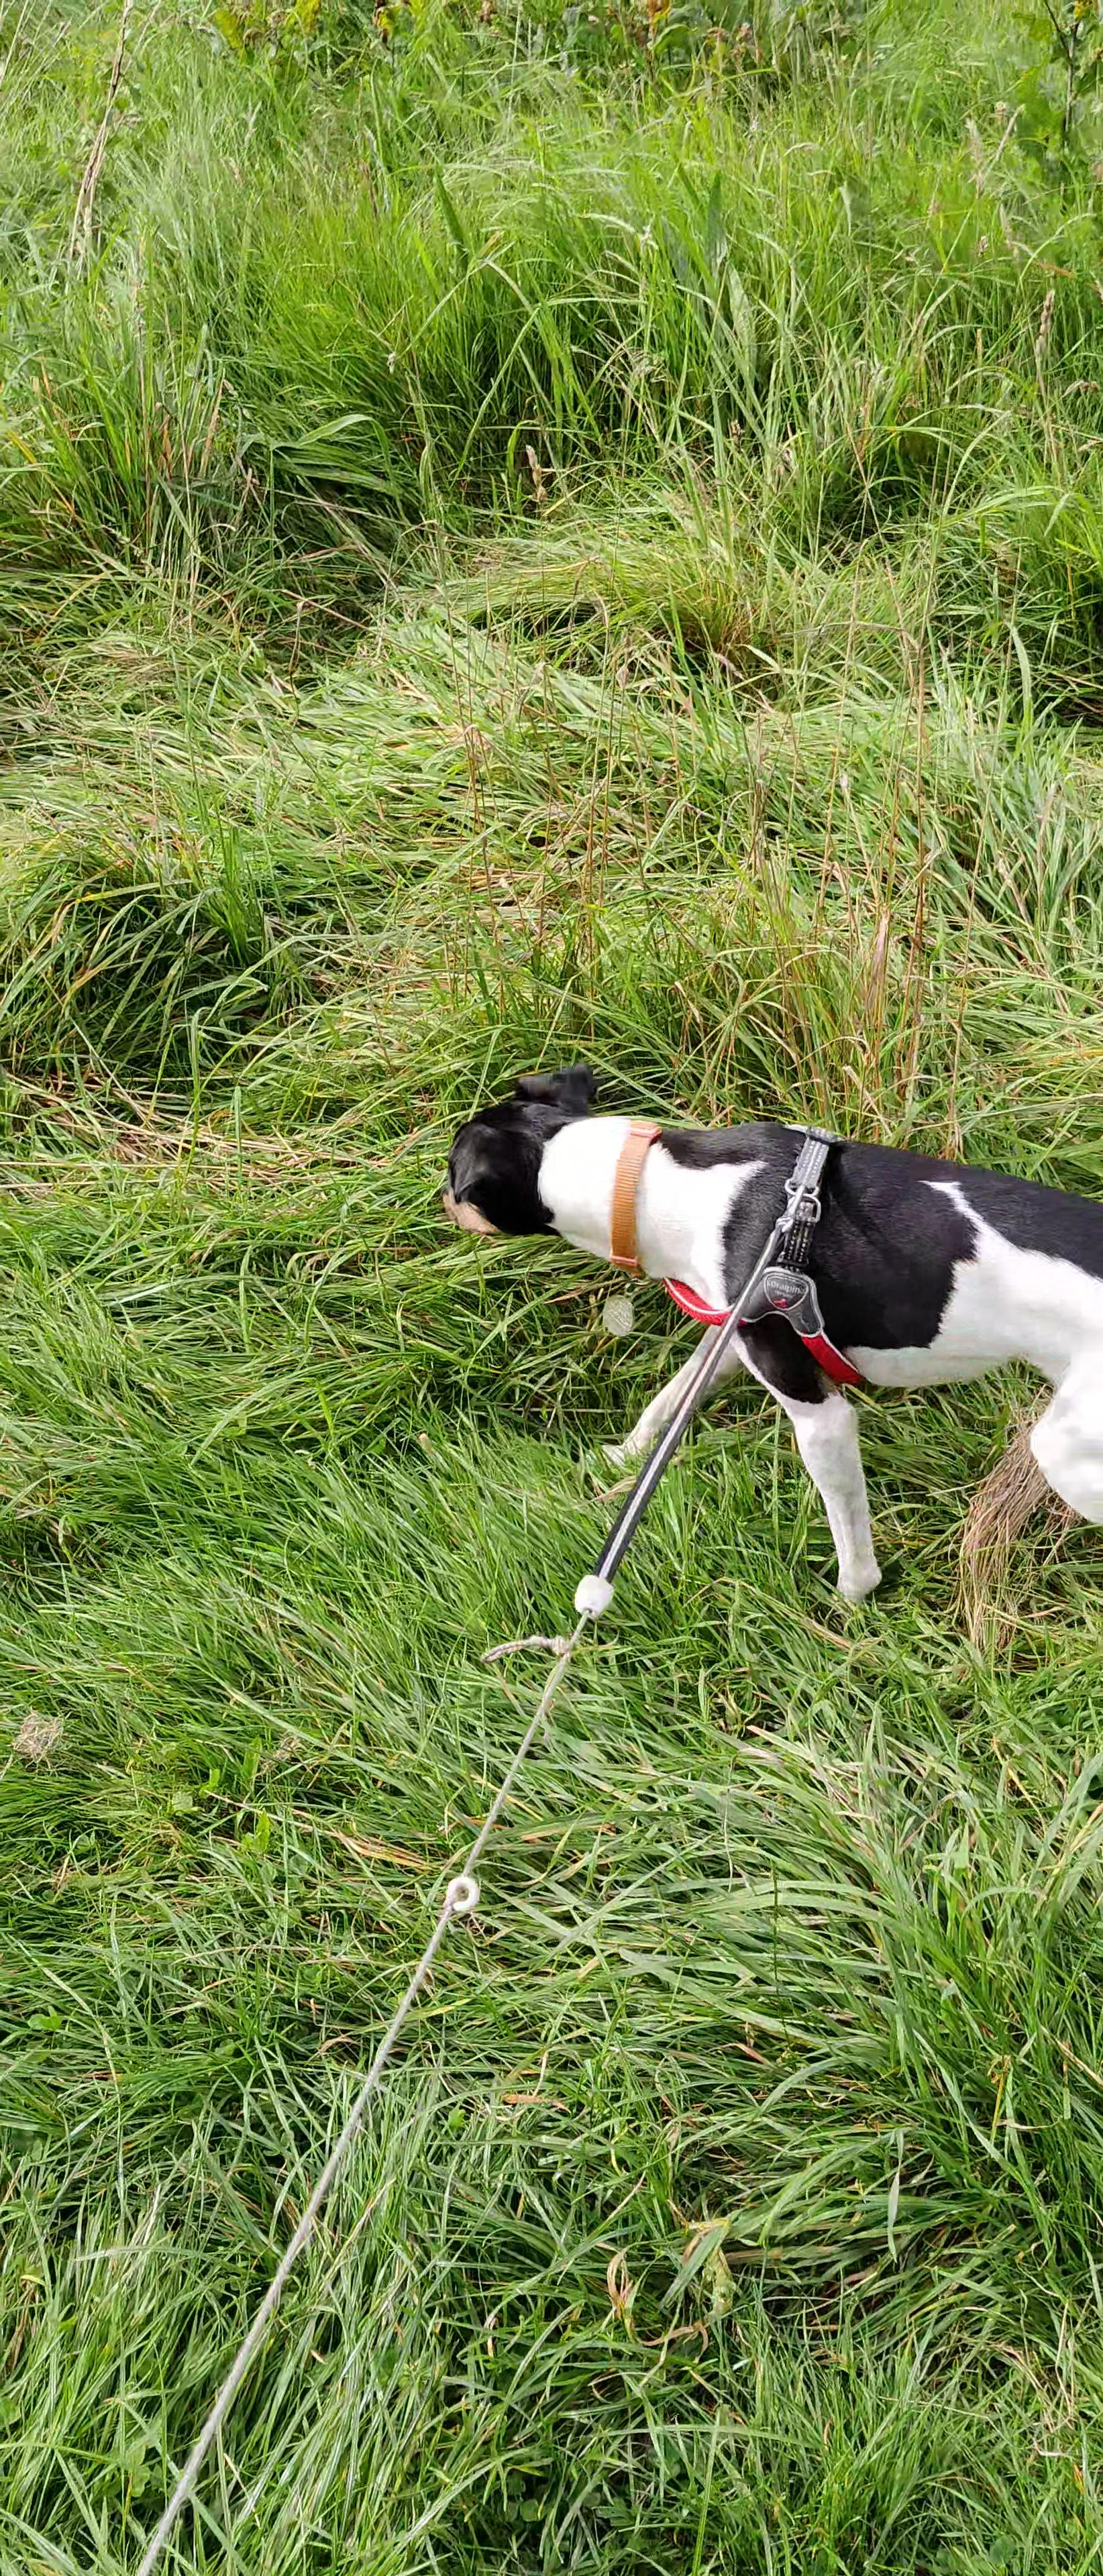Dog: (426, 1053, 1103, 1613)
